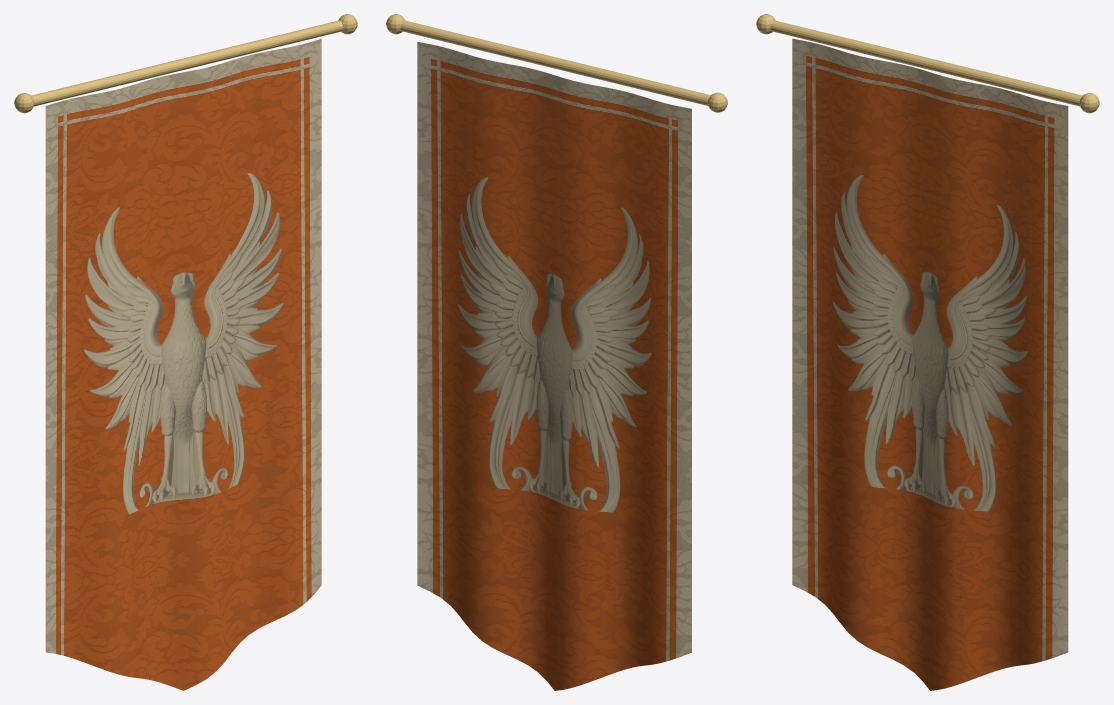
Rendered from banner_h3.glb.
3 renders of one model, left to right at view 1: azimuth 30°, elevation 25°; view 2: azimuth 150°, elevation 25°; view 3: azimuth 330°, elevation 25°, orthographic.
Visible parts, largest first — view 1: banner_h3; view 2: banner_h3; view 3: banner_h3.
Boxes of the visible parts, box(x1,y1,x2,y2) form: banner_h3: box(14, 14, 357, 690); banner_h3: box(386, 14, 727, 690); banner_h3: box(756, 14, 1099, 690).
Size of the model in its own units: 1.73 by 3.1 by 0.1.
2 materials, 1 textured.
